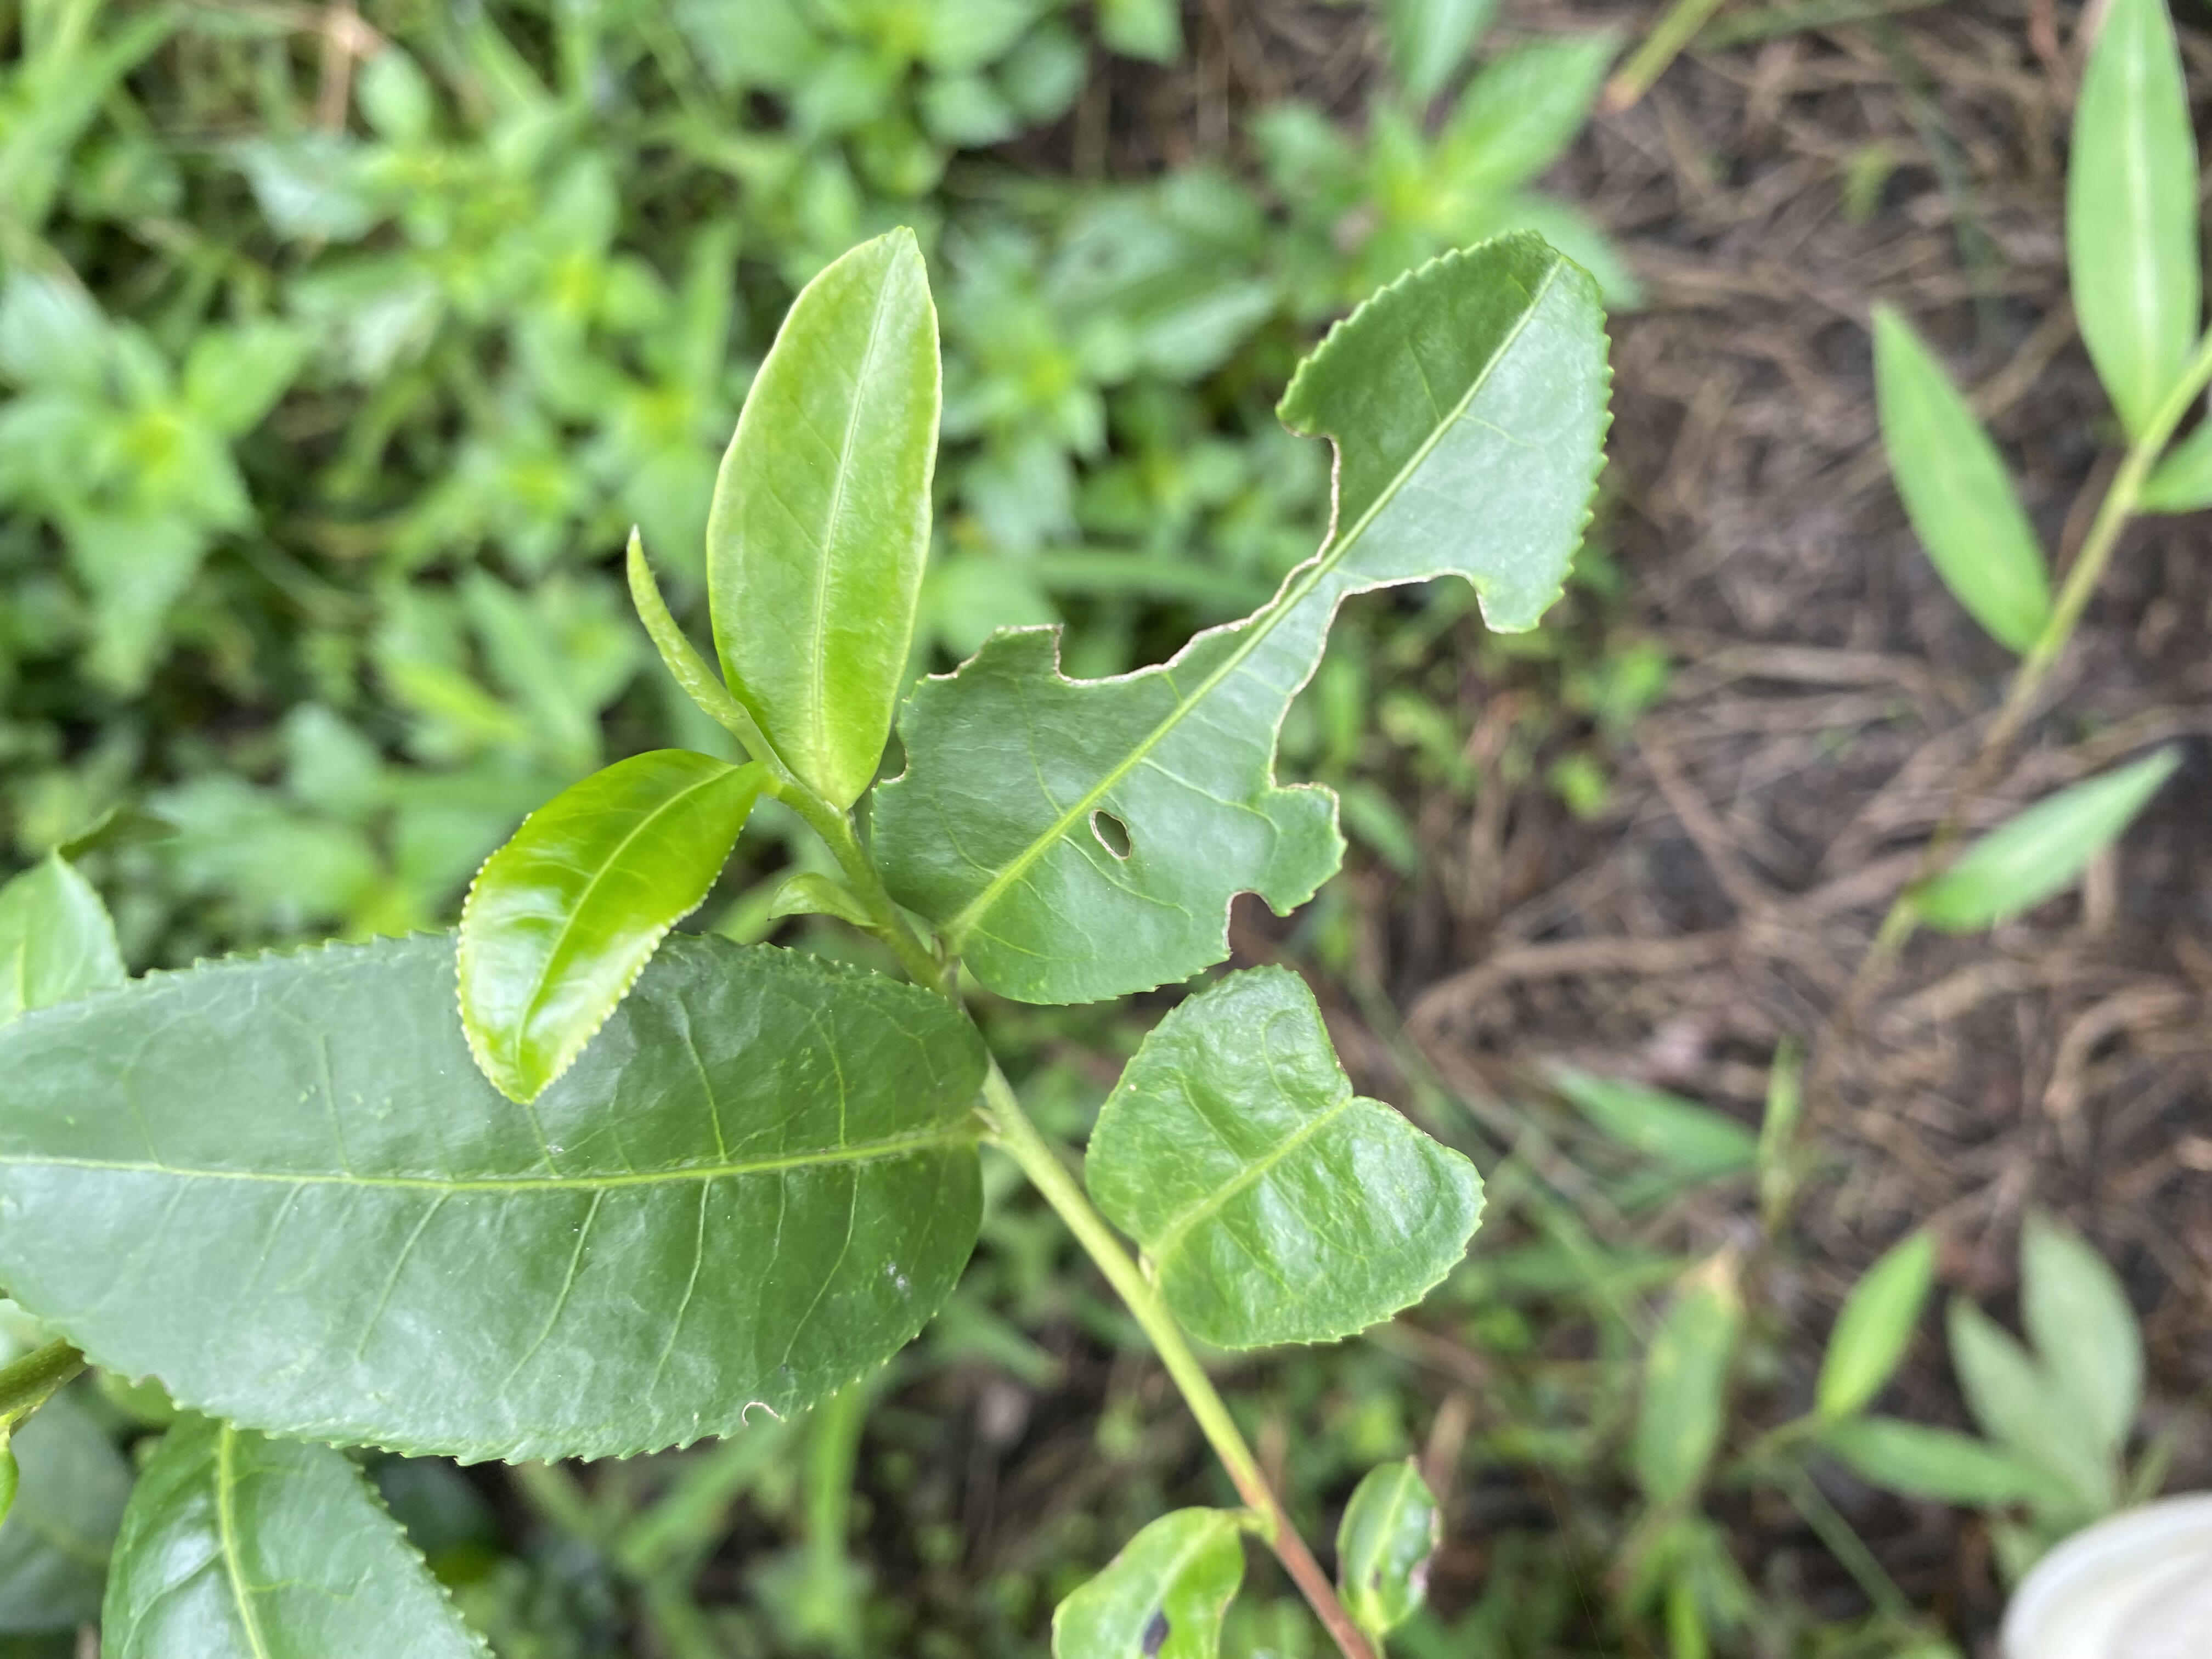chihuo_high: (862, 228, 1618, 1011), (1078, 965, 1487, 1354)
chihuo_low: (3, 927, 989, 1476)
healthy: (451, 744, 768, 1105)
